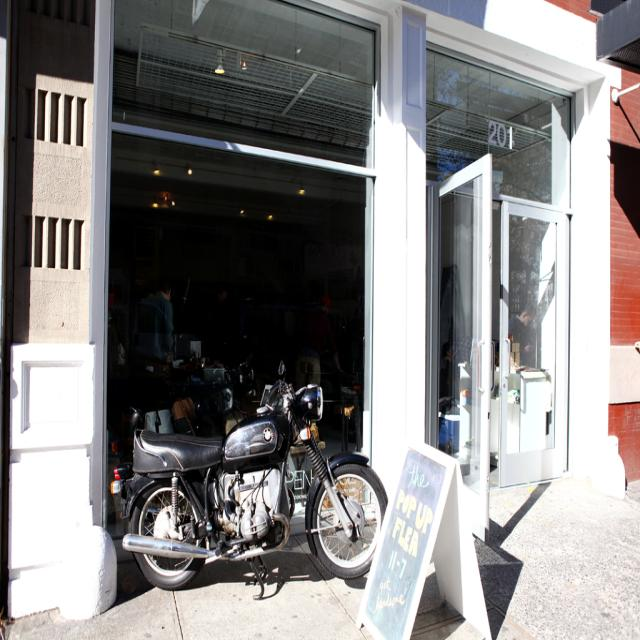Motorbikes: (122, 372, 390, 598)
